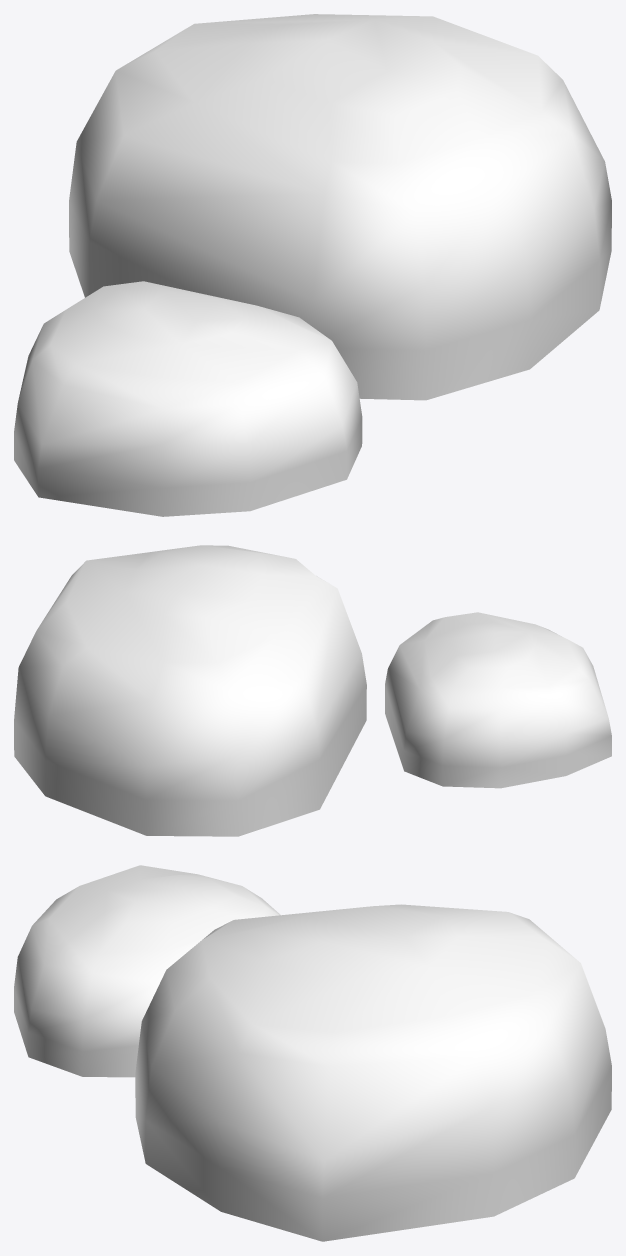
Rendered from Stones.fbx.
3 views of the same model, one above another, from view 1: azimuth 30°, elevation 25°; view 2: azimuth 150°, elevation 25°; view 3: azimuth 270°, elevation 25° (orthographic). The views are drawn at different scales.
Visible parts, largest first — view 1: Stone1, Stone2; view 2: Stone1, Stone2; view 3: Stone1, Stone2.
Part boxes in pixels (x1=…): Stone1: x1=69, y1=14, x2=611, y2=400; Stone2: x1=14, y1=281, x2=362, y2=516; Stone1: x1=14, y1=545, x2=366, y2=836; Stone2: x1=385, y1=612, x2=611, y2=788; Stone1: x1=135, y1=904, x2=611, y2=1241; Stone2: x1=14, y1=865, x2=280, y2=1077.
Bounding box in the file's own units: 42.61 × 13.94 × 37.
